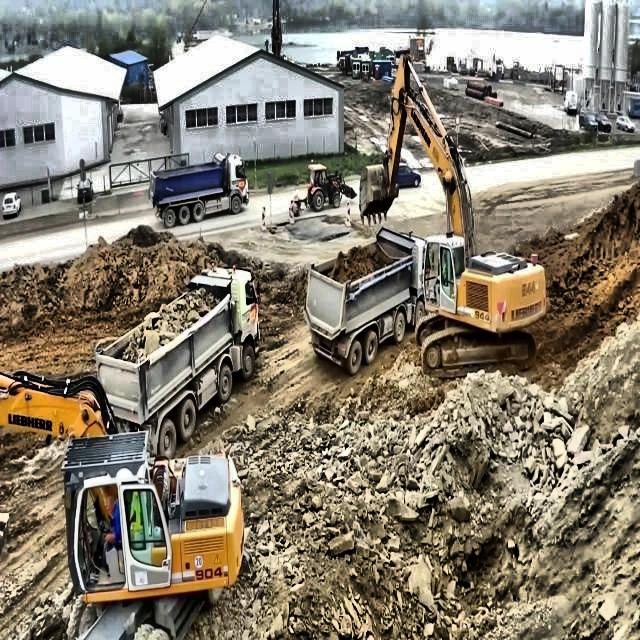bull_dozer/loader/grader: (288, 156, 358, 222)
dump_truck: (95, 262, 272, 465), (302, 226, 425, 374), (144, 151, 250, 227)
excavator: (0, 369, 251, 632), (356, 47, 548, 380)
